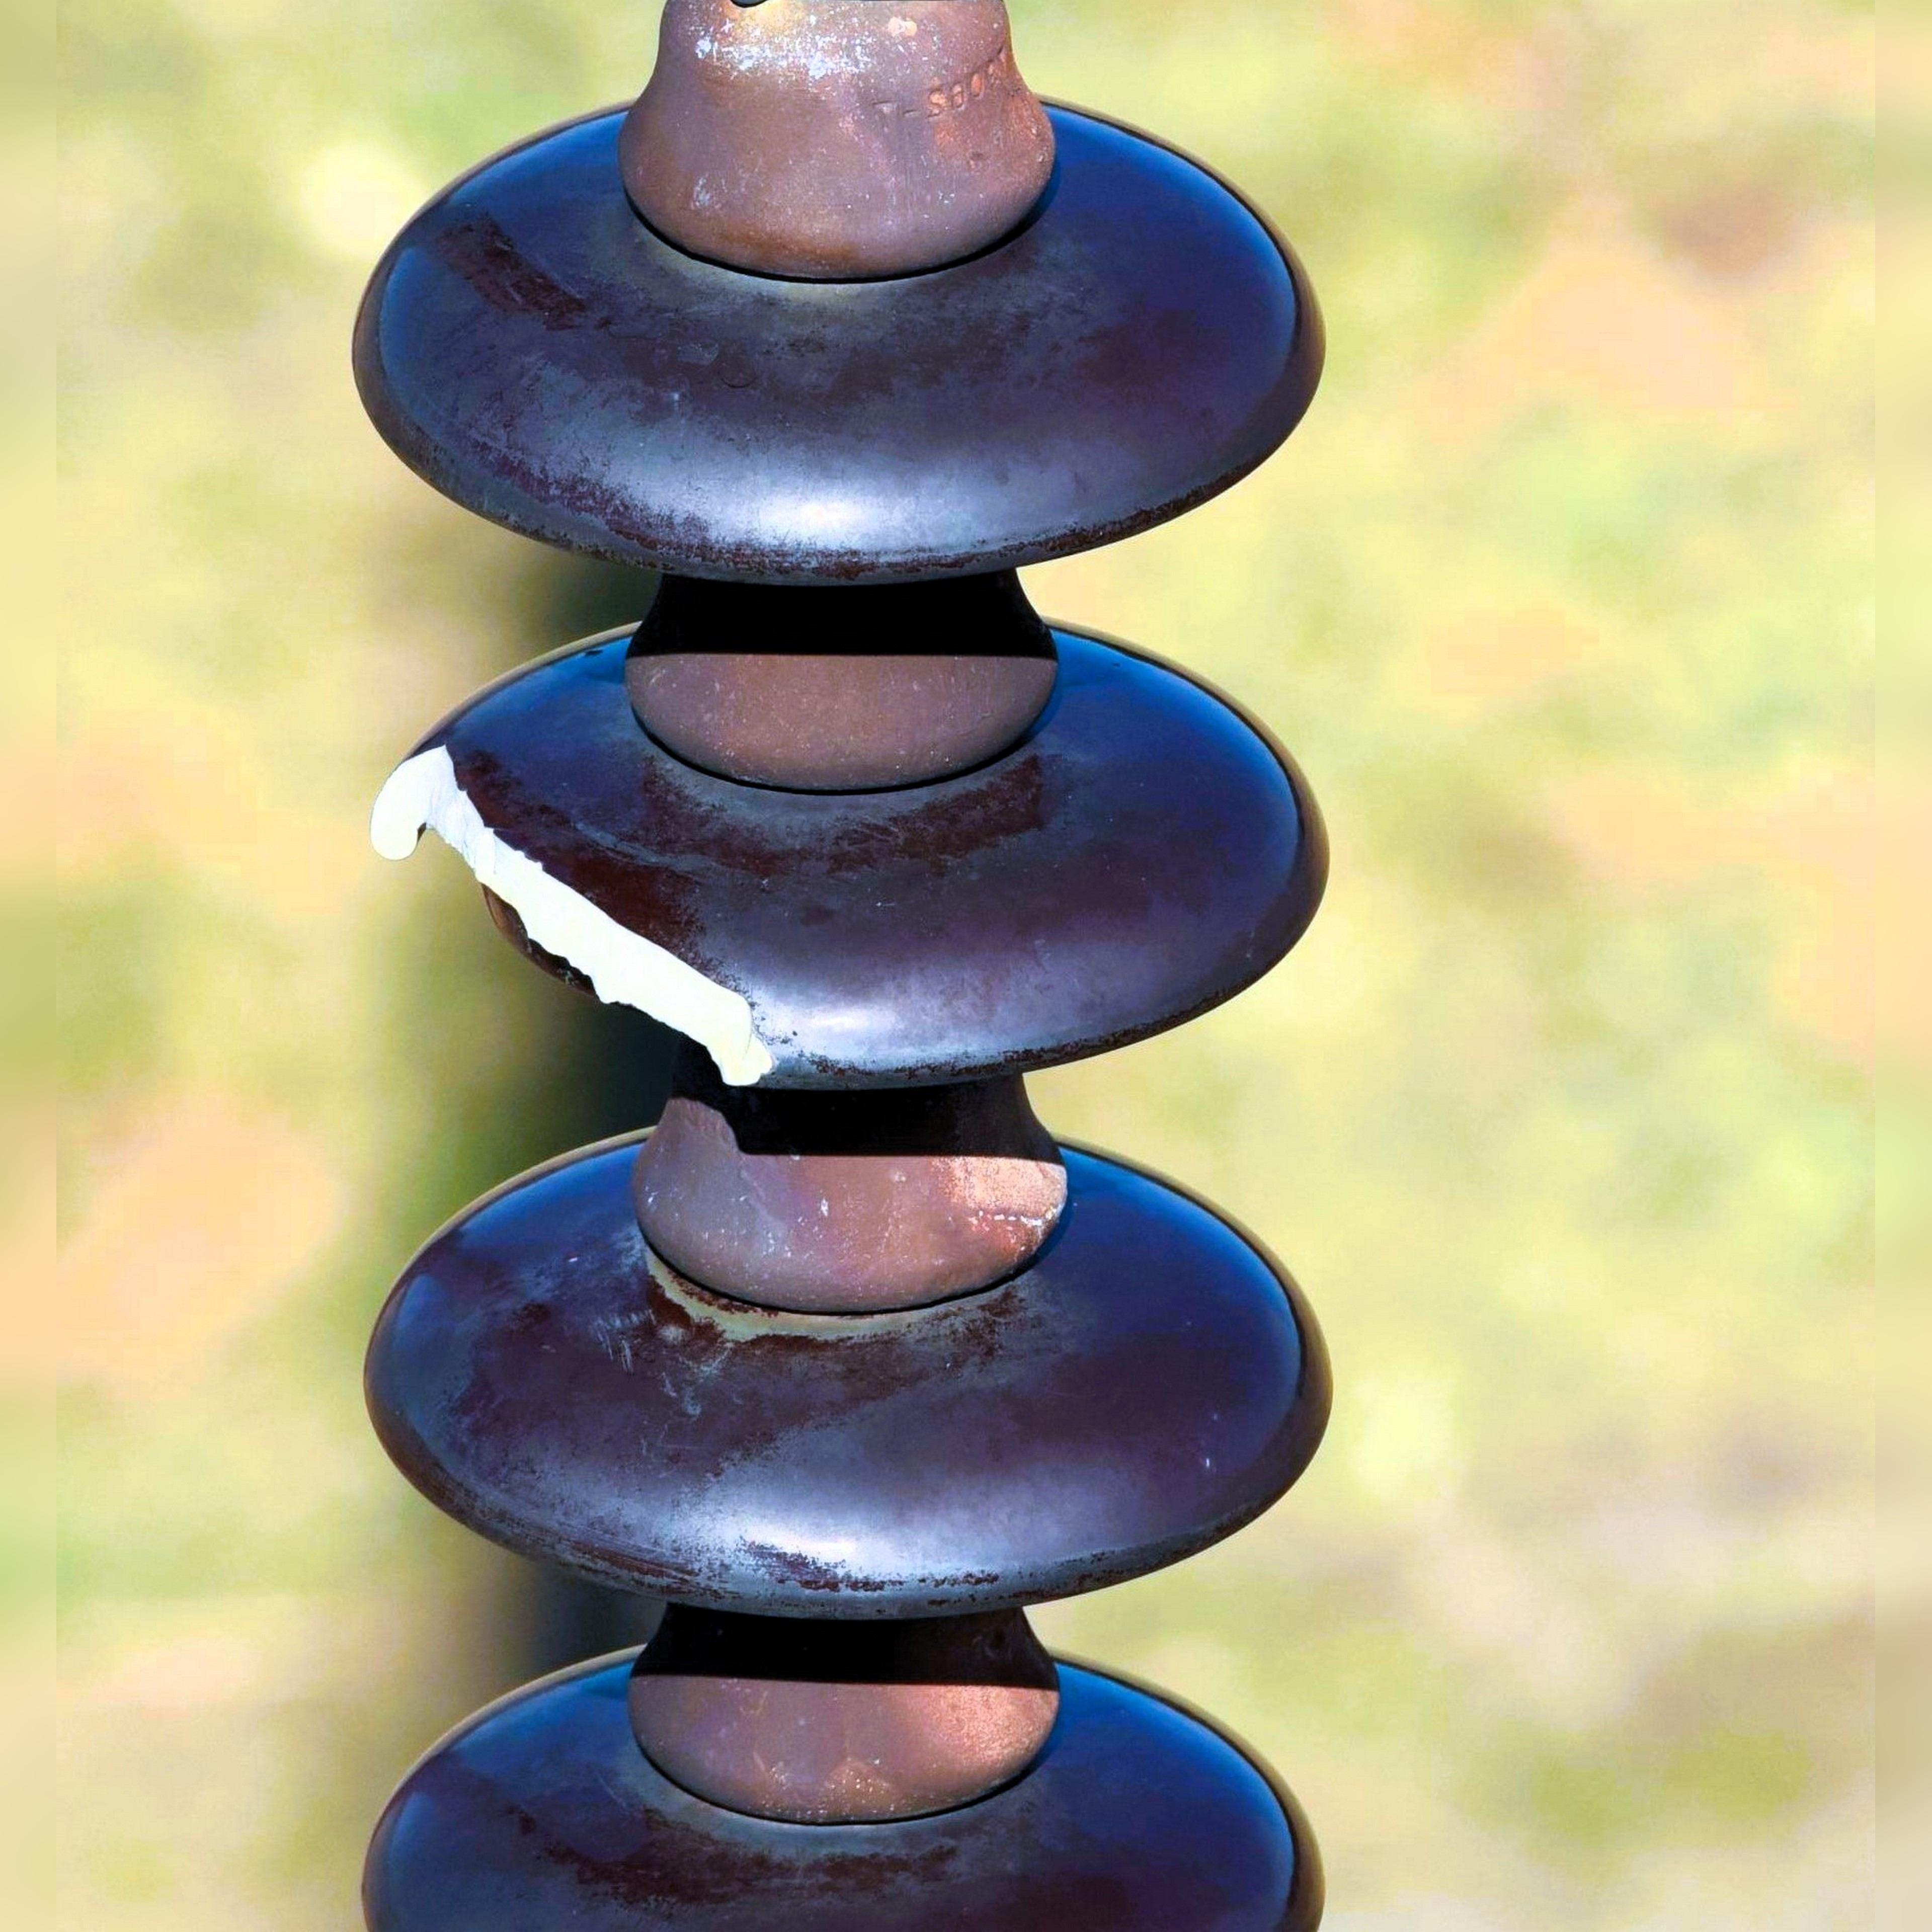insulator breakage: (345, 586, 1353, 1118)
